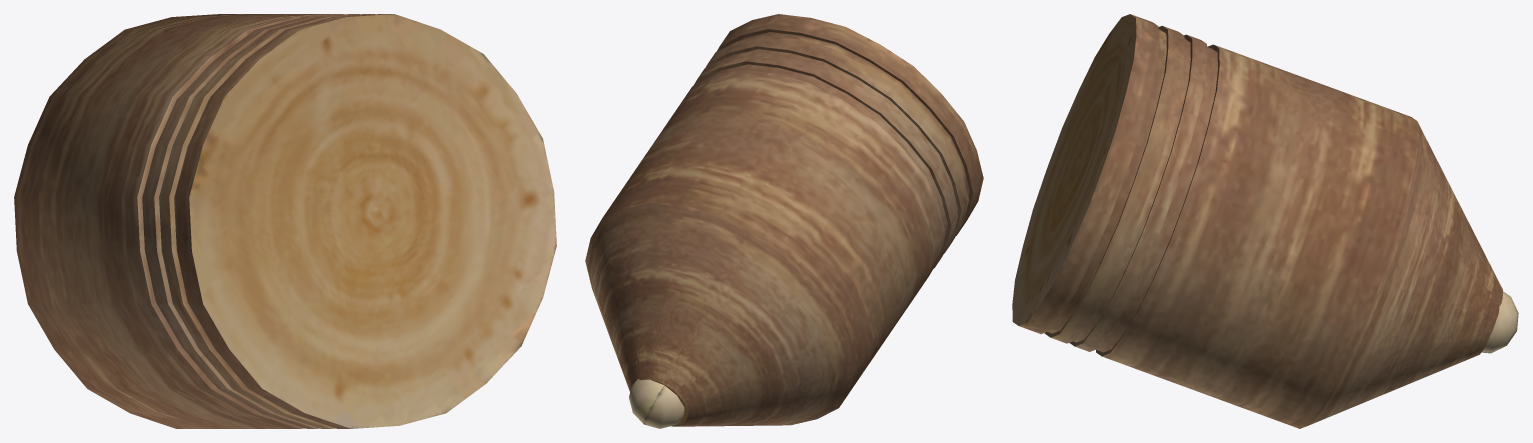
The model's file is ref_spinningtop.glb.
3 views of the same model, side by side, from view 1: azimuth 30°, elevation 25°; view 2: azimuth 150°, elevation 25°; view 3: azimuth 270°, elevation 25° (orthographic). The views are drawn at different scales.
Parts seen in each view (by area): view 1: ref_spinningtop_part0; view 2: ref_spinningtop_part0; view 3: ref_spinningtop_part0.
Part boxes in pixels (x1,y1,x2,y2): ref_spinningtop_part0: (14, 14, 556, 428); ref_spinningtop_part0: (585, 14, 983, 428); ref_spinningtop_part0: (1012, 14, 1518, 428).
Size of the model in its own units: 0.6538 by 0.8307 by 1.
1 material, 1 textured.
